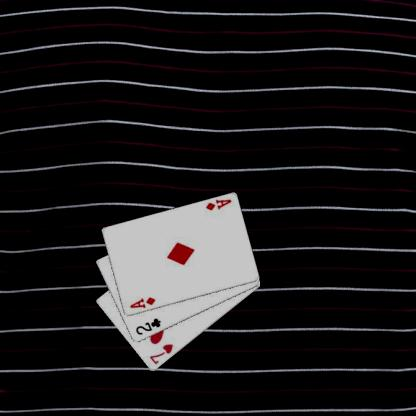2C: (133, 316, 162, 336)
7H: (146, 342, 174, 366)
AD: (203, 197, 232, 212), (128, 295, 156, 310)
